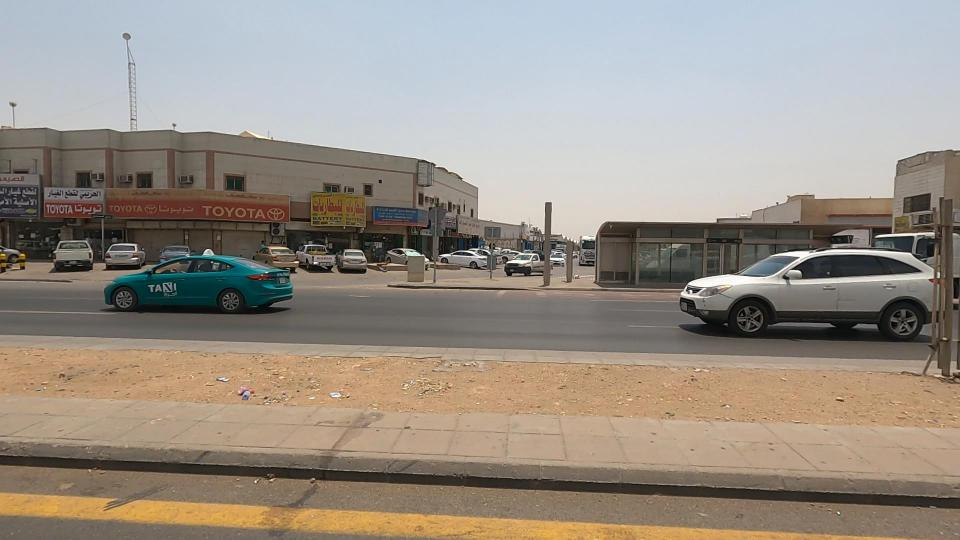GARBAGE: (180, 352, 306, 424), (294, 372, 367, 416)
